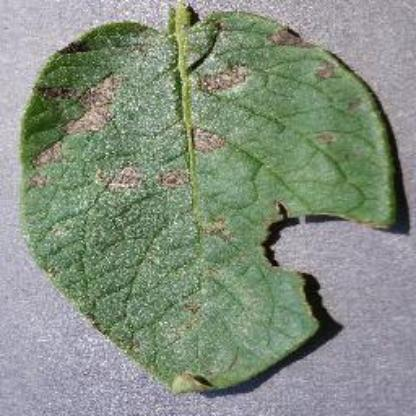Early-Blight: (20, 4, 404, 398)
